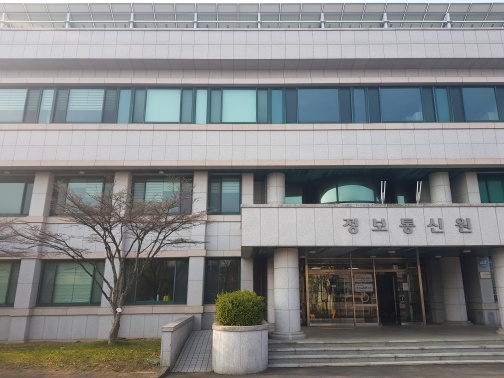Information Telecommunication Center: (4, 6, 502, 308), (274, 206, 499, 333), (335, 210, 491, 245)
